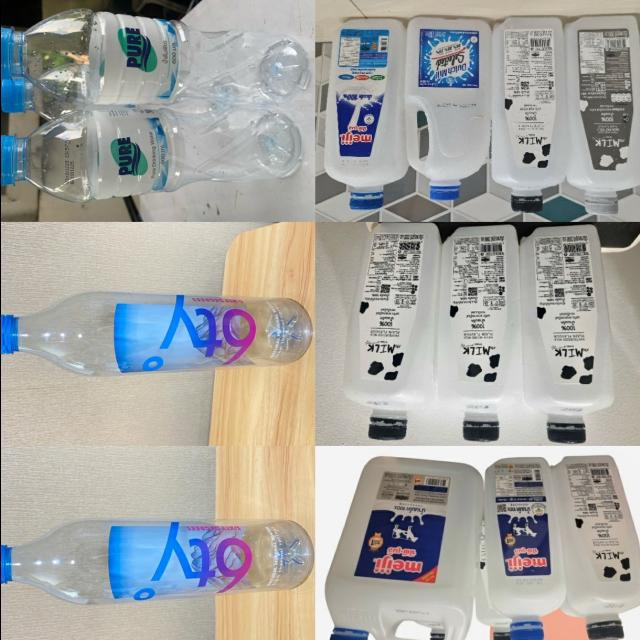plastik: (0, 8, 308, 106), (324, 457, 482, 640), (0, 108, 300, 203), (0, 291, 311, 376), (0, 520, 312, 604), (342, 222, 440, 440), (518, 225, 612, 444), (435, 225, 522, 443), (475, 457, 565, 640), (551, 456, 640, 640), (324, 19, 407, 211), (404, 18, 490, 201), (563, 16, 640, 214), (490, 18, 565, 213)
